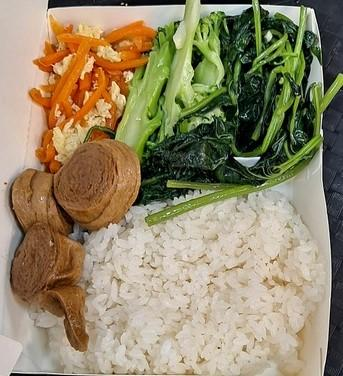big grilled chicken leg: (3, 0, 337, 376)
big herbal chicken leg: (36, 185, 319, 372)
braised fish fillet: (143, 9, 324, 224), (8, 136, 140, 357), (32, 16, 153, 172), (115, 4, 230, 157)
